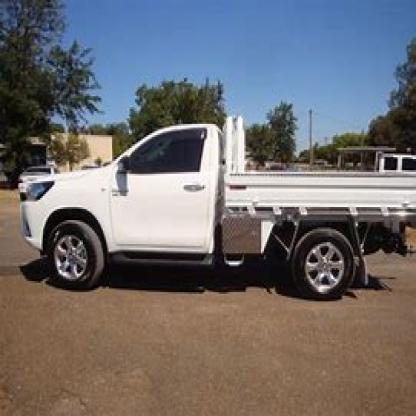light_vehicle: (14, 111, 414, 305)
